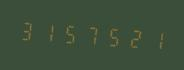five: (59, 17, 79, 49), (101, 20, 121, 52)
one: (38, 16, 58, 47), (143, 23, 163, 54)
seven: (80, 19, 100, 50)
three: (17, 14, 37, 46)
two: (122, 22, 142, 53)
